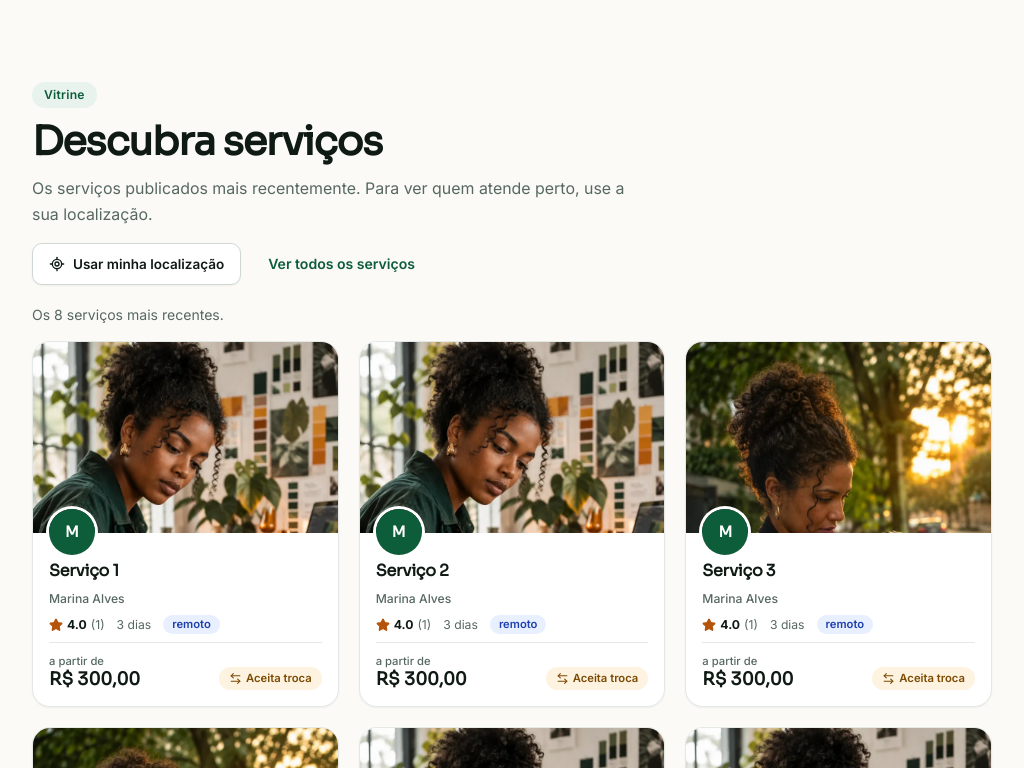
Scenario: Showcase › com a localização e a vitrine cheia, o status fala dos mais próximos
Click the button "Usar minha localização" at point(137, 264), box [32,243,241,285]
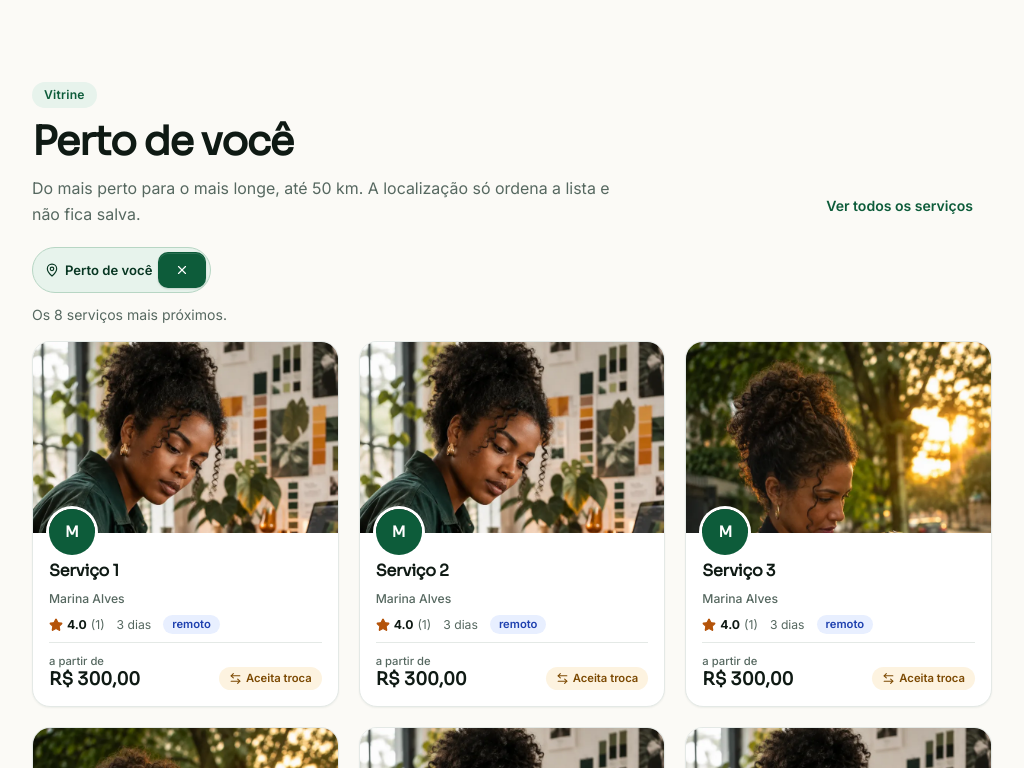
expect the message with test id "vitrine-status" reads "Os 8 serviços mais próximos.": met, box [32,306,227,323]
